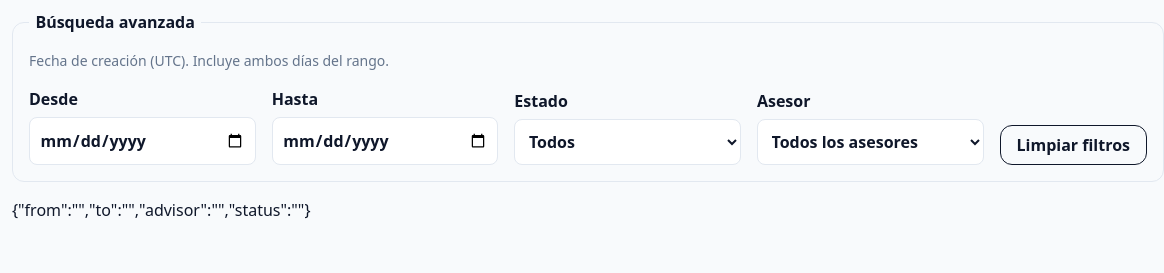
advanced filter controls › announces reversed dates accessibly
In the date field labelled "Desde": (142, 141) [29,117,256,165], type "2026-09-30"
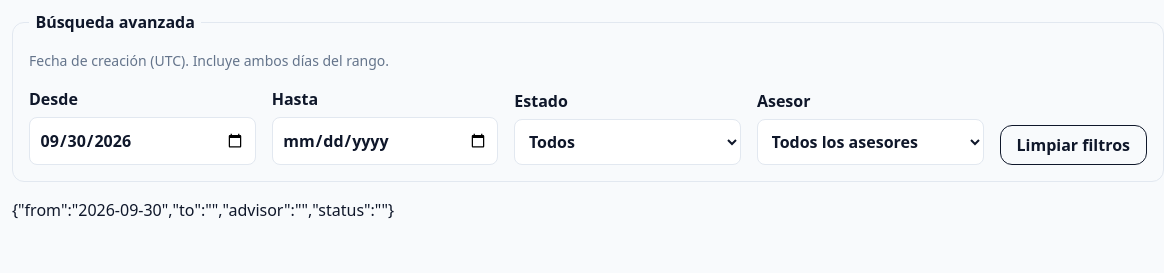
In the date field labelled "Hasta": (385, 141) [272,117,498,165], type "2026-09-01"
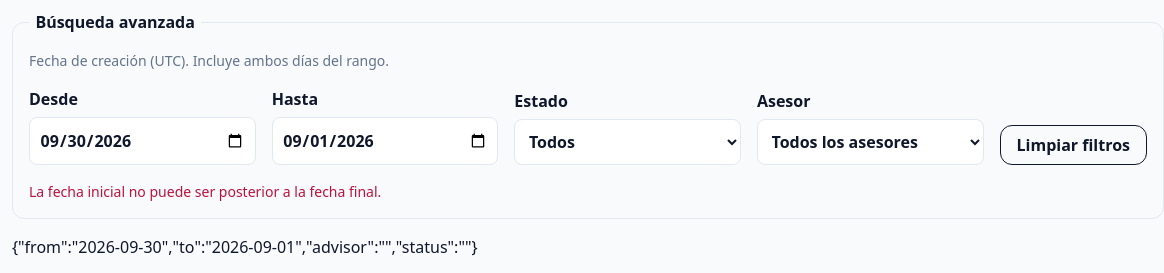
Result: the message shows "La fecha inicial no puede ser posterior" at [29,182,381,201]
